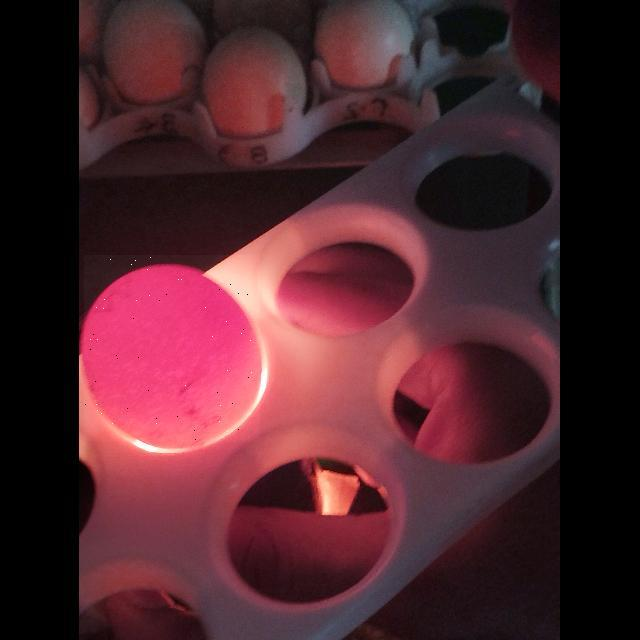Infertile: (84, 255, 260, 441)
